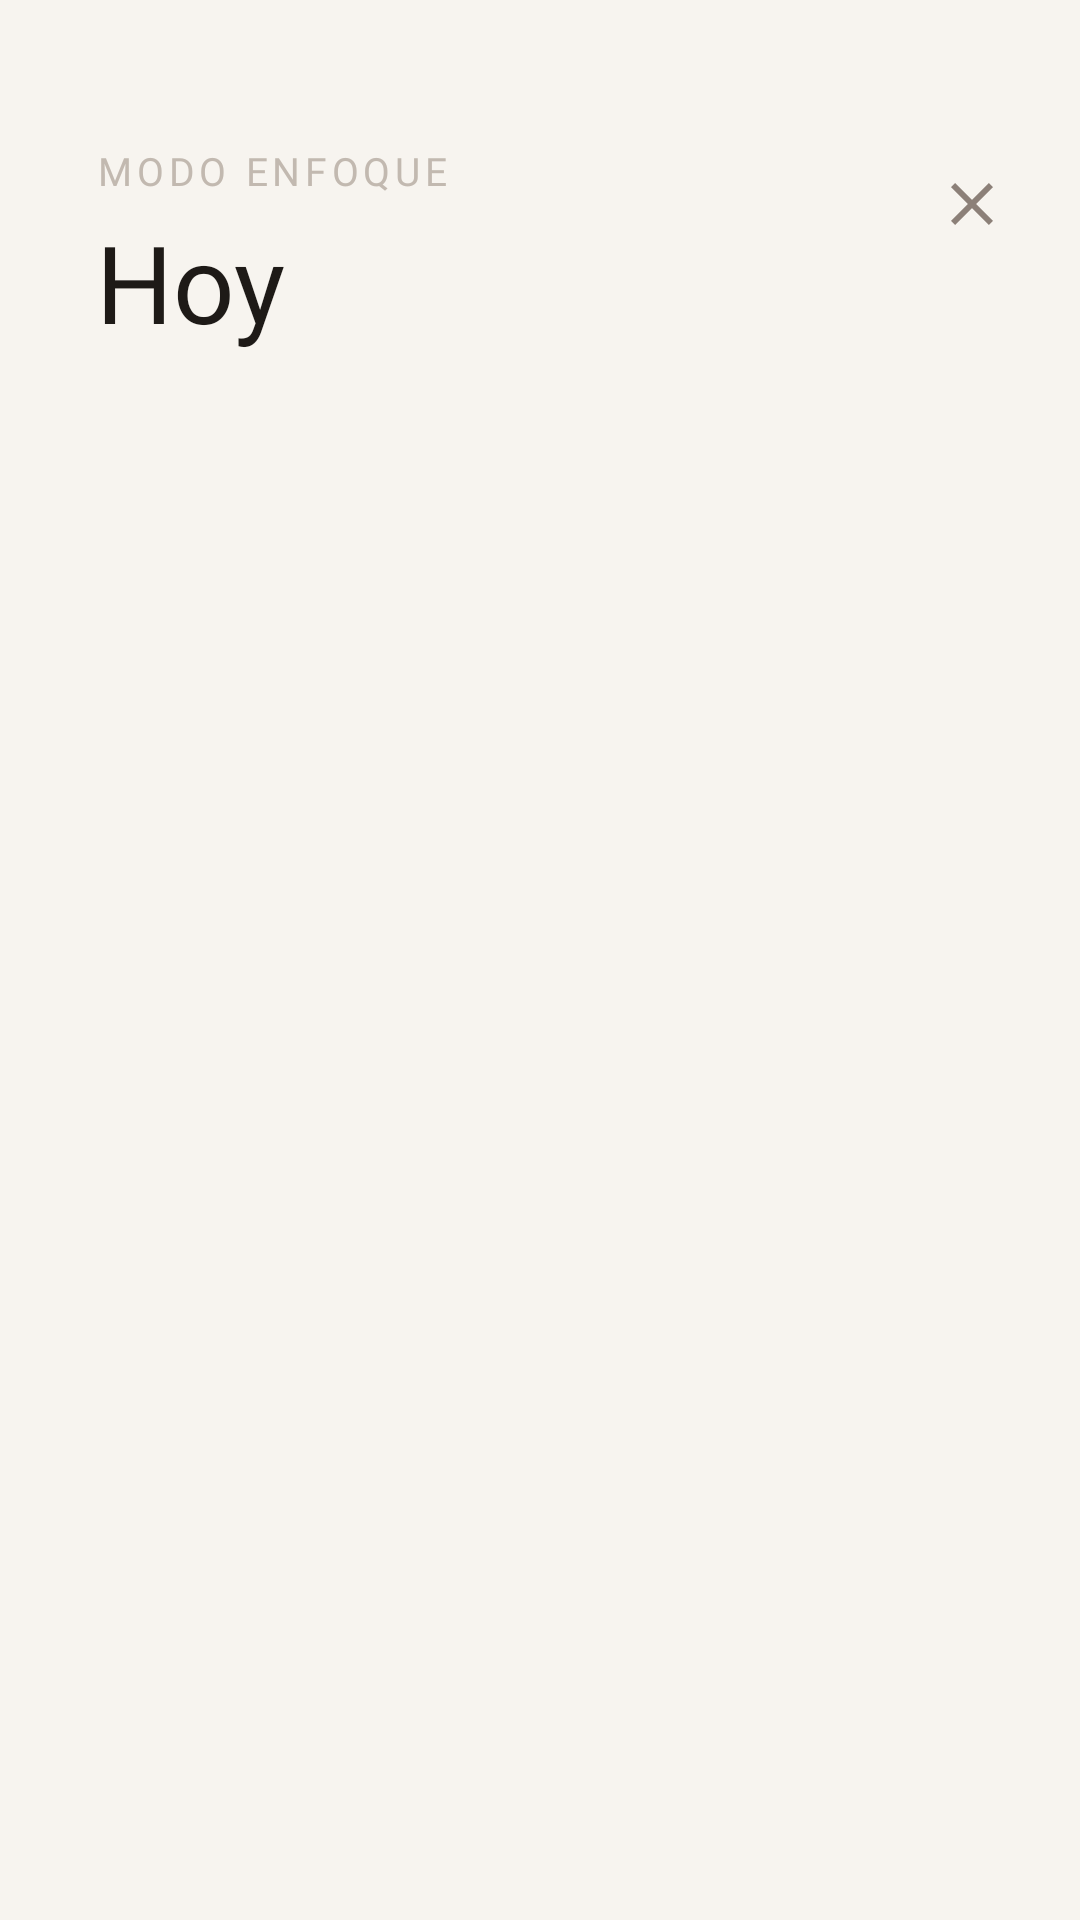

Named icons in this screenshot (1080px x 1920px) and their bounding boxes, bbox(x1, y1, x2, y2):
Cerrar modo enfoque: bbox(951, 183, 993, 225)
